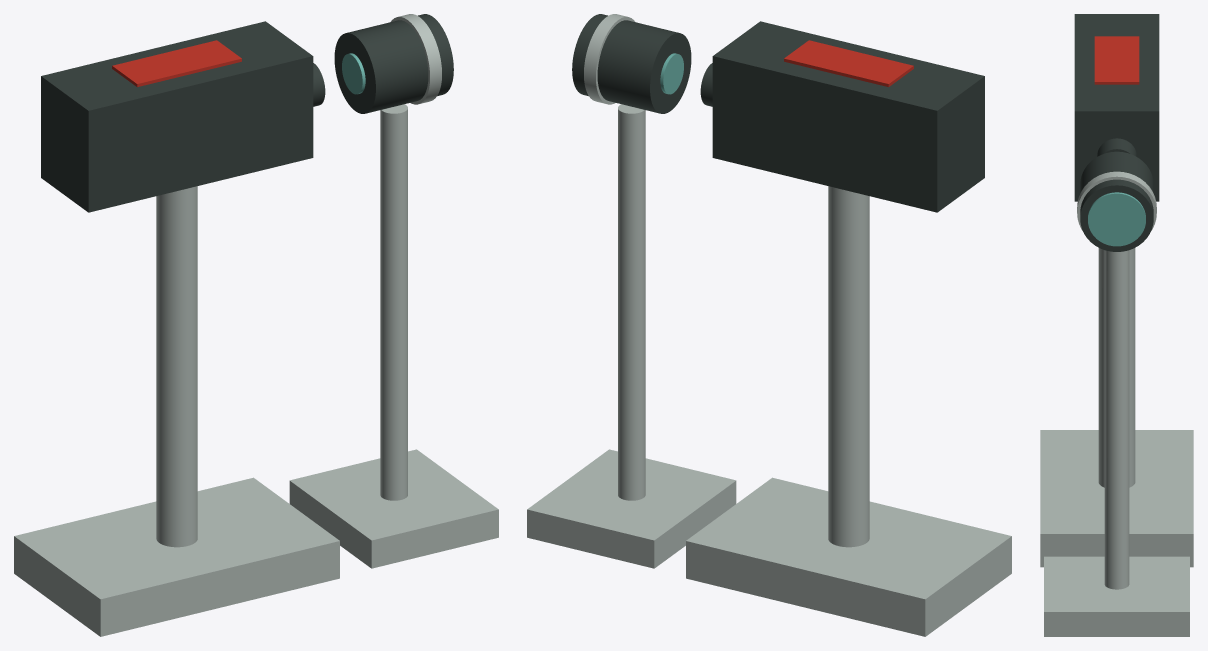
File: accessories-product.glb
3 views of the same model, side by side, from view 1: azimuth 30°, elevation 25°; view 2: azimuth 150°, elevation 25°; view 3: azimuth 270°, elevation 25° (orthographic). The views are drawn at different scales.
Parts seen in each view (by area): view 1: LASER_HOUSING, LASER_BASE, LASER_POST, EXPANDER_BASE, EXPANDER_POST, EXPANDER_BARREL, LASER_TOP_LABEL, EXPANDER_COLLAR, EXPANDER_REAR; view 2: LASER_HOUSING, LASER_BASE, LASER_POST, EXPANDER_BASE, EXPANDER_POST, EXPANDER_BARREL, LASER_TOP_LABEL, EXPANDER_COLLAR, EXPANDER_REAR; view 3: LASER_BASE, EXPANDER_BASE, LASER_HOUSING, EXPANDER_POST, EXPANDER_BARREL, LASER_POST, EXPANDER_FRONT, LASER_TOP_LABEL, EXPANDER_COLLAR, LASER_APERTURE.
Boxes of the visible parts, x1,y1,x2,y2 form: LASER_HOUSING: [41, 21, 313, 212]; LASER_BASE: [14, 477, 339, 636]; LASER_POST: [156, 186, 197, 547]; EXPANDER_BASE: [289, 449, 498, 568]; EXPANDER_POST: [380, 104, 407, 500]; EXPANDER_BARREL: [334, 14, 453, 113]; LASER_TOP_LABEL: [112, 40, 241, 87]; EXPANDER_COLLAR: [391, 14, 441, 104]; EXPANDER_REAR: [342, 53, 365, 94]; LASER_HOUSING: [712, 21, 984, 212]; LASER_BASE: [686, 477, 1011, 636]; LASER_POST: [828, 186, 869, 547]; EXPANDER_BASE: [527, 449, 736, 568]; EXPANDER_POST: [618, 104, 645, 500]; EXPANDER_BARREL: [572, 14, 691, 113]; LASER_TOP_LABEL: [784, 40, 913, 87]; EXPANDER_COLLAR: [584, 14, 634, 104]; EXPANDER_REAR: [660, 53, 683, 94]; LASER_BASE: [1040, 430, 1193, 567]; EXPANDER_BASE: [1044, 556, 1189, 636]; LASER_HOUSING: [1074, 14, 1159, 201]; EXPANDER_POST: [1104, 250, 1129, 589]; EXPANDER_BARREL: [1080, 151, 1153, 251]; LASER_POST: [1098, 248, 1135, 487]; EXPANDER_FRONT: [1088, 192, 1145, 246]; LASER_TOP_LABEL: [1094, 36, 1139, 84]; EXPANDER_COLLAR: [1077, 171, 1156, 230]; LASER_APERTURE: [1097, 138, 1136, 156].
Bounding box in the file's own units: 0.2675 × 0.328 × 0.1.
